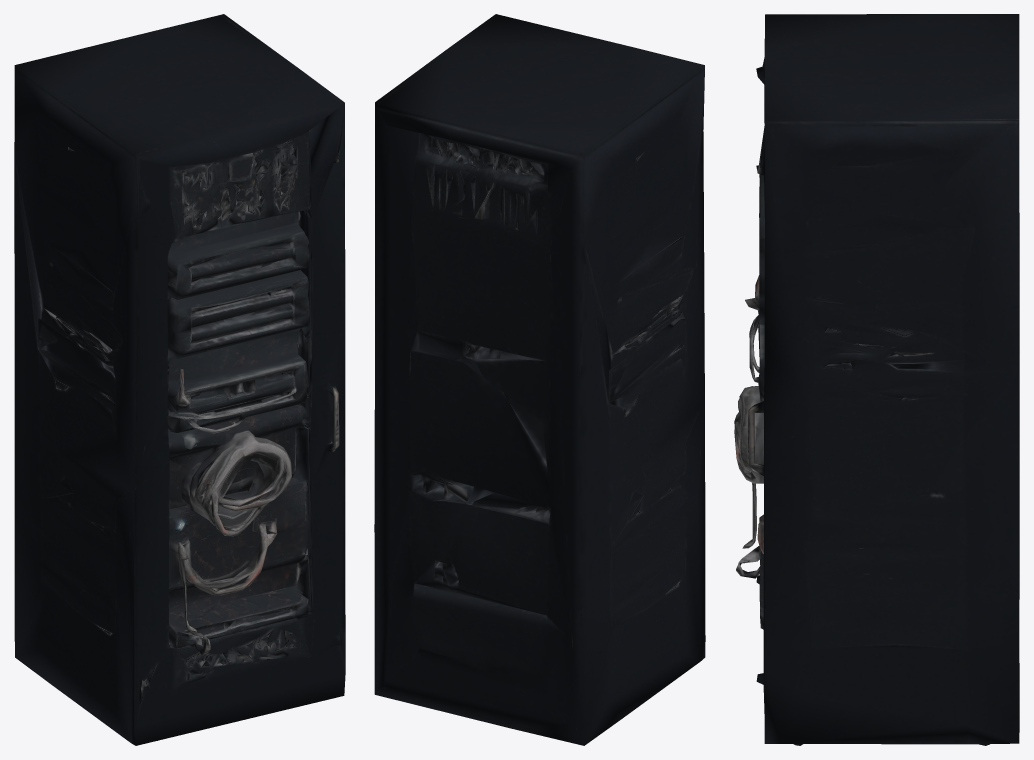
The model's file is server_rack.glb.
The picture shows the model from 3 angles, left to right: view 1: azimuth 30°, elevation 25°; view 2: azimuth 150°, elevation 25°; view 3: azimuth 270°, elevation 25°; orthographic projection. The views are drawn at different scales.
Size of the model in its own units: 0.6932 by 1.9 by 0.773.
1 material, 1 textured.
